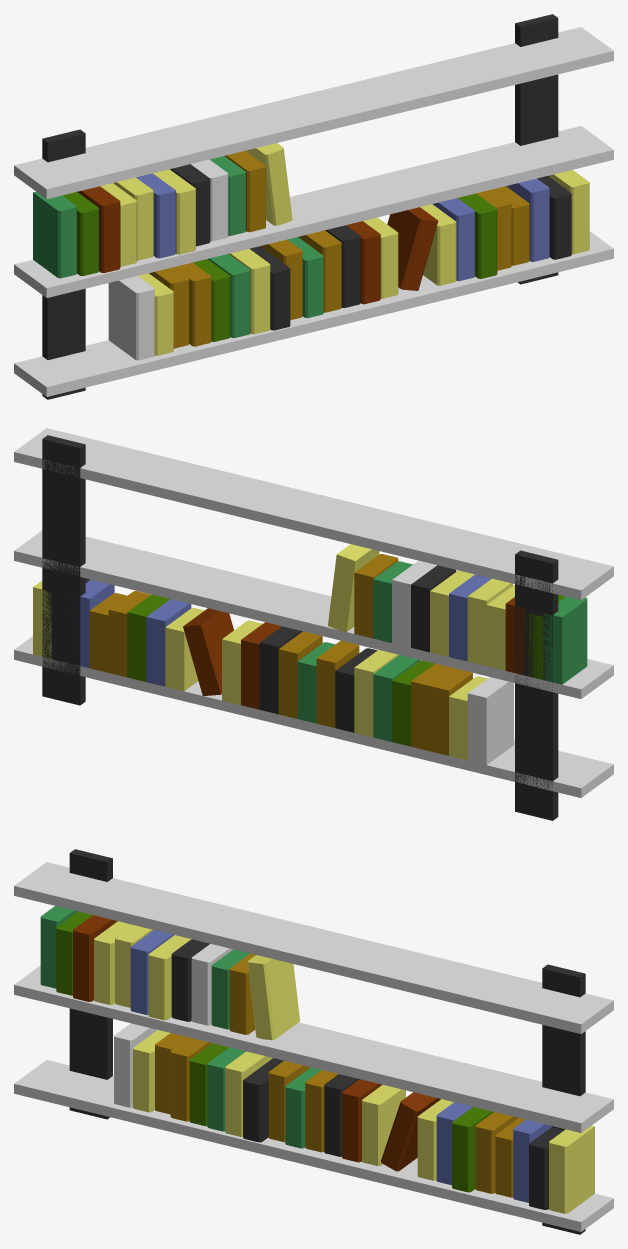
Rendered from Bookshelf.fbx.
3 renders of one model, top to bottom at view 1: azimuth 30°, elevation 25°; view 2: azimuth 150°, elevation 25°; view 3: azimuth 330°, elevation 25°, orthographic.
Visible parts, largest first — view 1: Bookshelf; view 2: Bookshelf; view 3: Bookshelf.
Part boxes in pixels (x1,y1,x2,y2): Bookshelf: [14, 14, 613, 399]; Bookshelf: [14, 428, 613, 820]; Bookshelf: [14, 849, 613, 1234].
Size of the model in its own units: 300 by 130 by 30.
